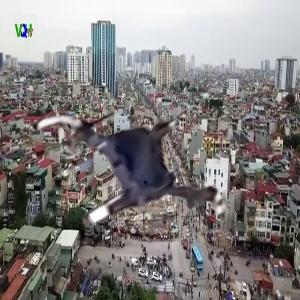drone: (32, 66, 235, 269)
